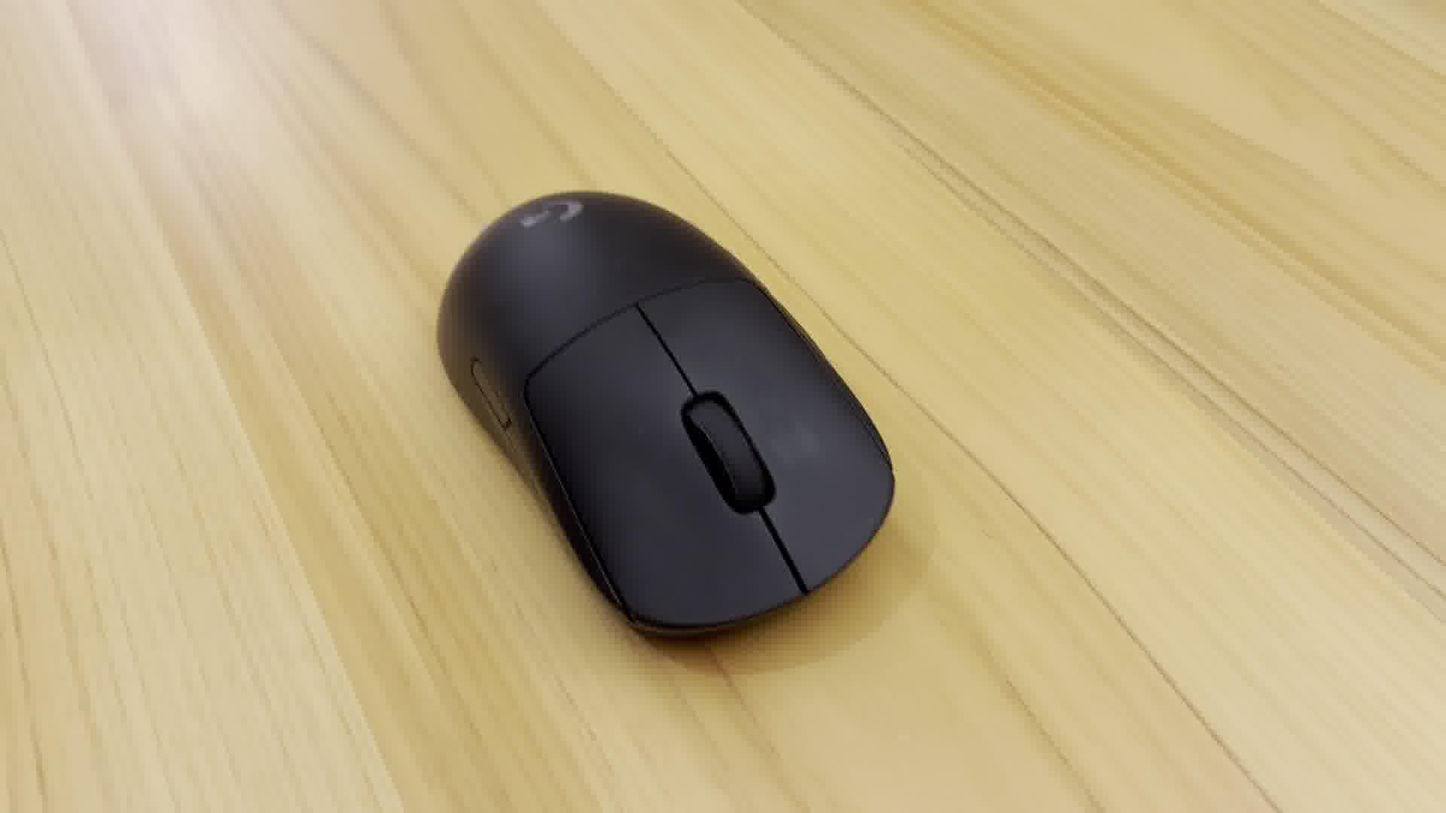mouse: (433, 187, 905, 656)
